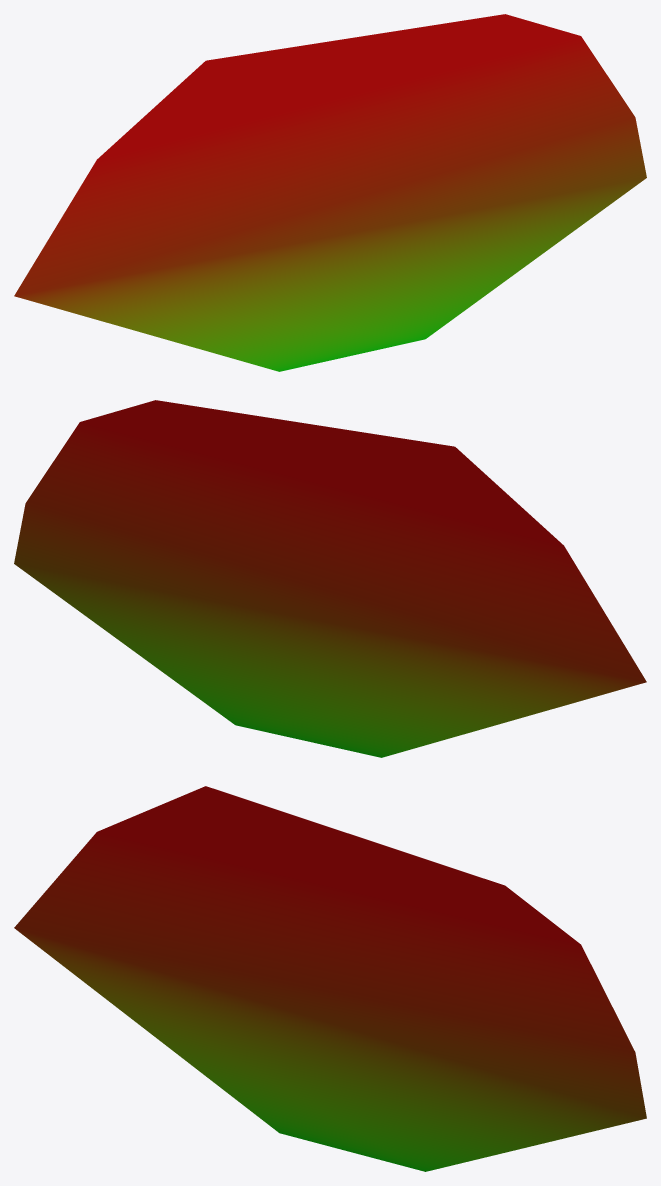
File: Wild Grass_LOD4_Var8_vlkhcbxia.fbx
3 renders of one model, top to bottom at view 1: azimuth 30°, elevation 25°; view 2: azimuth 150°, elevation 25°; view 3: azimuth 330°, elevation 25°, orthographic.
Visible parts, largest first — view 1: _m4q4_Var8_LOD4; view 2: _m4q4_Var8_LOD4; view 3: _m4q4_Var8_LOD4.
Boxes of the visible parts, x1=… form: _m4q4_Var8_LOD4: x1=14, y1=14, x2=646, y2=371; _m4q4_Var8_LOD4: x1=14, y1=400, x2=646, y2=757; _m4q4_Var8_LOD4: x1=14, y1=786, x2=646, y2=1171.
Size of the model in its own units: 22.99 by 11.53 by 3.17e-07.
